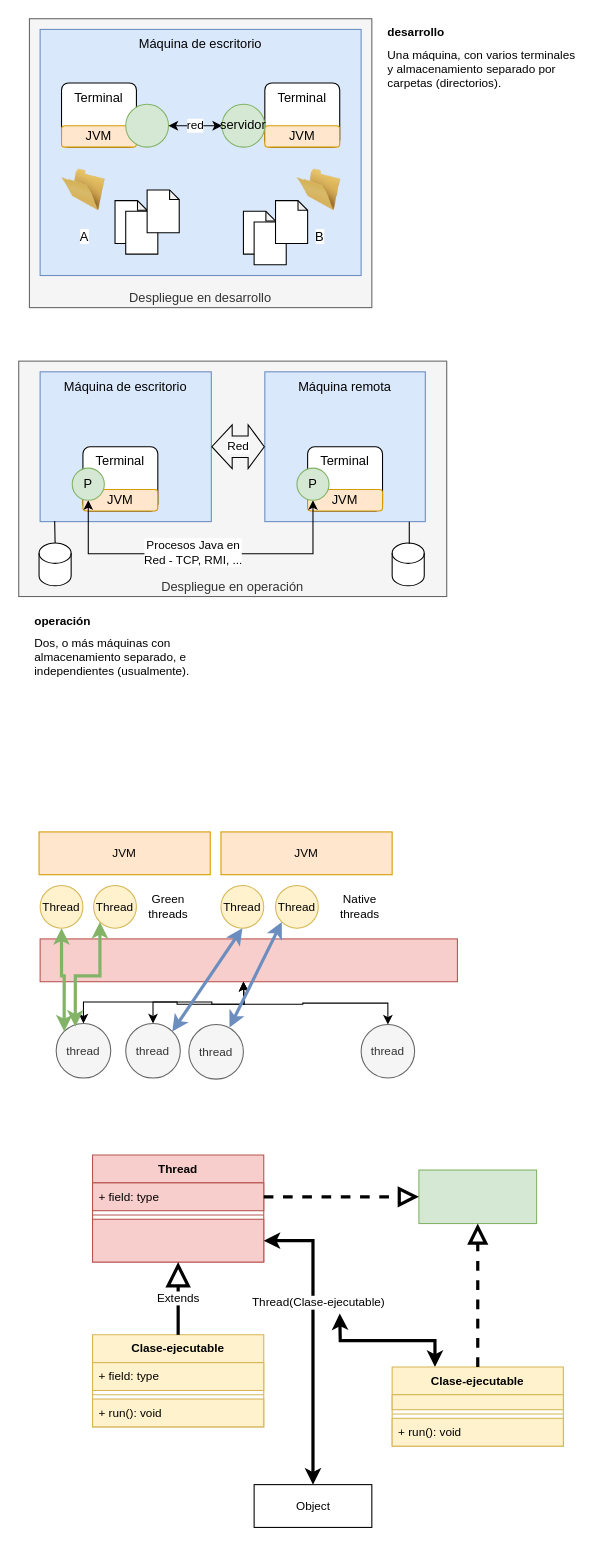
Some shapes in this 605 by 1546 pixel diagram are drawn without their labels. The centre of each missing label's shape, as x and y in pixels:
"+ run(): void ...." goes at [177,1240].
"cliente" goes at [147,125].
"Sistema Operativo" goes at [248,960].
"«interface» Runnable" goes at [477,1196].
